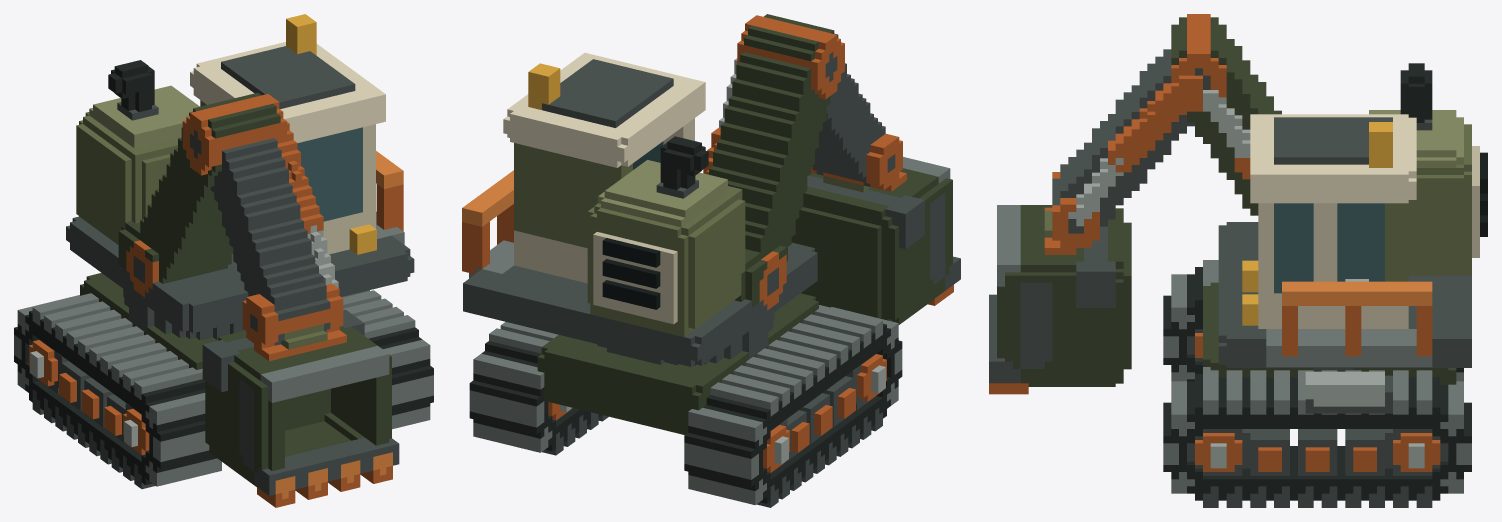
The model's file is excavator.glb.
3 renders of one model, left to right at view 1: azimuth 30°, elevation 25°; view 2: azimuth 150°, elevation 25°; view 3: azimuth 270°, elevation 25°, orthographic. The views are drawn at different scales.
Visible parts, largest first — view 1: excavator; view 2: excavator; view 3: excavator.
Boxes of the visible parts, x1,y1,x2,y2 form: excavator: [14, 14, 433, 507]; excavator: [462, 14, 960, 507]; excavator: [989, 14, 1487, 507].
Size of the model in its own units: 3.29 by 3.71 by 4.41.
